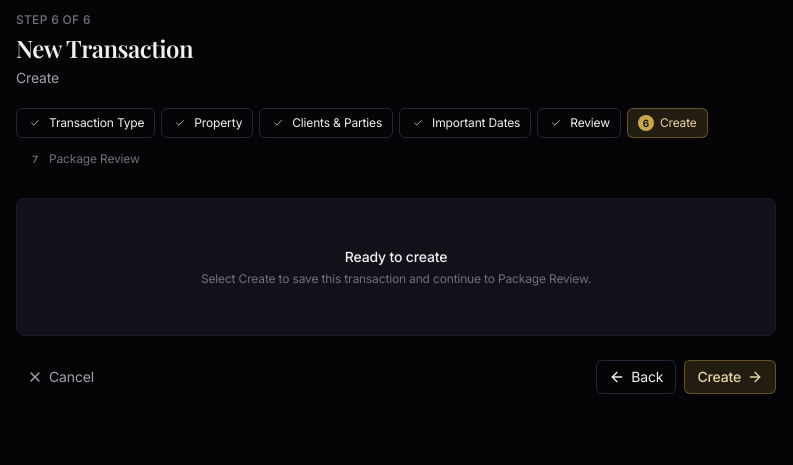
Test: surfaces a create failure with a retry (no redirect, draft kept)
Expected: the element with test id "wizard-step-create" is shown, [201,248,591,286]
Click the button "Create". click: x=730, y=377
box: [684,360,776,394]
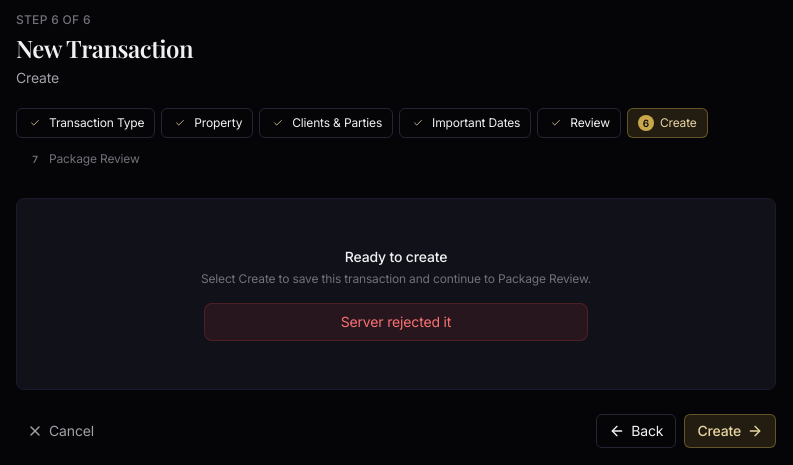
Expected: the element with test id "wizard-step-create" is shown, [201,248,591,341]
Expected: the text "Server rejected it" is shown, [204,303,588,341]
